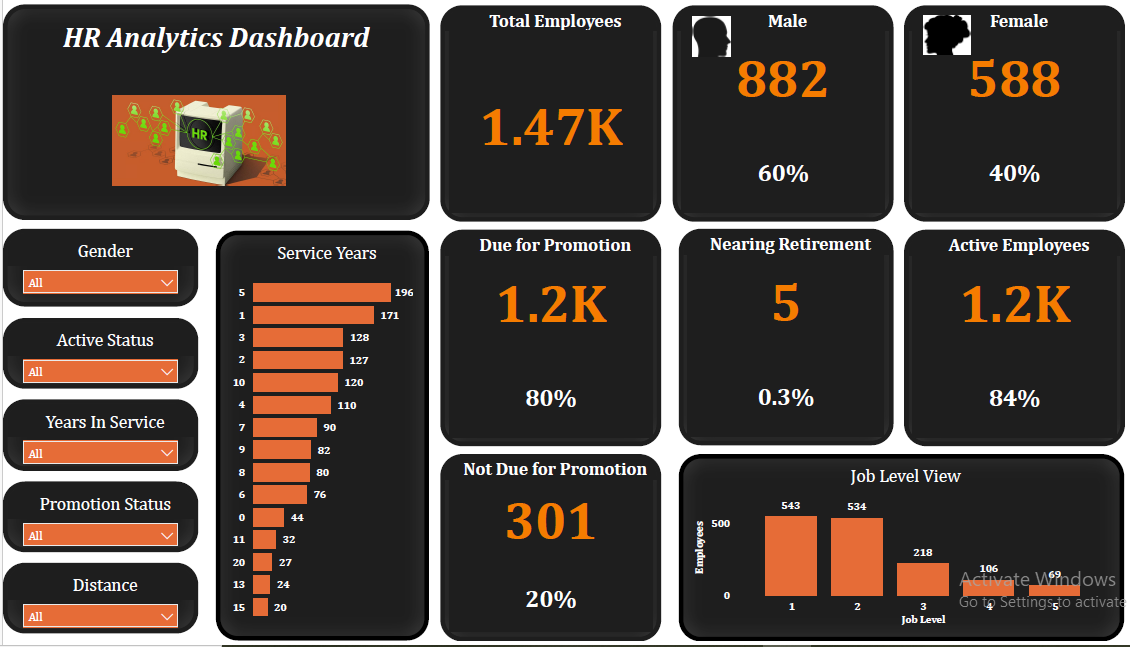

This screenshot's page, from the dashboard's own definition file:
{"tool":"powerbi","page":{"name":"HR Analytics","canvas":[1280,720],"ordinal":0},"visuals":[{"type":"textbox","box":[0,0,482.9,244.4],"z":0},{"type":"cardVisual","title":"Total Employees","fields":{"Data":["WA_Fn-UseC_-HR-Employee-Attriti.TotalEmployees"]},"box":[495.4,1.5,250,245],"z":1000},{"type":"cardVisual","title":"Active Employees","fields":{"Data":["WA_Fn-UseC_-HR-Employee-Attriti.ActiveEmployees","WA_Fn-UseC_-HR-Employee-Attriti.%ActiveEmployees"]},"box":[1020.2,255,250.1,245.1],"z":2000},{"type":"image","box":[118.5,86.3,206.3,136.1],"z":3000},{"type":"cardVisual","title":"Nearing Retirement","fields":{"Data":["WA_Fn-UseC_-HR-Employee-Attriti.NearingRetirement","WA_Fn-UseC_-HR-Employee-Attriti.%Nearing Retirement"]},"box":[765.2,253.8,242.6,245.1],"z":4000},{"type":"cardVisual","title":"Female","fields":{"Data":["WA_Fn-UseC_-HR-Employee-Attriti.Female Employees","WA_Fn-UseC_-HR-Employee-Attriti.%Female Employees"]},"box":[1019.8,1.2,250,245],"z":5000},{"type":"cardVisual","title":"Male","fields":{"Data":["WA_Fn-UseC_-HR-Employee-Attriti.Male Employees","WA_Fn-UseC_-HR-Employee-Attriti.%Male Employees"]},"box":[757.9,1.2,250,245],"z":6000},{"type":"image","box":[1030.8,7.3,75,55],"z":8000},{"type":"image","box":[765.5,8.6,75,55],"z":8500},{"type":"clusteredColumnChart","title":"Job Level View","fields":{"Category":["WA_Fn-UseC_-HR-Employee-Attriti.JobLevel"],"Y":["WA_Fn-UseC_-HR-Employee-Attriti.Total Employees"]},"box":[765.2,508.9,503.9,211.5],"z":9000},{"type":"cardVisual","title":"Not Due for Promotion","fields":{"Data":["WA_Fn-UseC_-HR-Employee-Attriti.Not Due for Promotion","WA_Fn-UseC_-HR-Employee-Attriti.%NotDueforPromotion"]},"box":[495.2,508.9,250.1,211.5],"z":10000},{"type":"cardVisual","title":"Due for Promotion","fields":{"Data":["WA_Fn-UseC_-HR-Employee-Attriti.Due for Promotion","WA_Fn-UseC_-HR-Employee-Attriti.%DueForPromotion"]},"box":[495.2,255.1,250.1,245.1],"z":11000},{"type":"slicer","title":"Gender","fields":{"Values":["WA_Fn-UseC_-HR-Employee-Attriti.Gender"]},"box":[-0.5,253.9,221.5,88.3],"z":12000},{"type":"slicer","title":"Promotion Status","fields":{"Values":["WA_Fn-UseC_-HR-Employee-Attriti.Promotion Status"]},"box":[0,540,221.5,79.6],"z":13000},{"type":"slicer","title":"Years In Service","fields":{"Values":["WA_Fn-UseC_-HR-Employee-Attriti.YearsAtCompany"]},"box":[0,446.7,221.5,80.9],"z":14000},{"type":"slicer","title":"Active Status","fields":{"Values":["WA_Fn-UseC_-HR-Employee-Attriti.ActiveStatus"]},"box":[0,354.6,221.5,79.6],"z":15000},{"type":"slicer","title":"Distance","fields":{"Values":["WA_Fn-UseC_-HR-Employee-Attriti.DistanceFromHome"]},"box":[0,632,221.5,79.6],"z":16000},{"type":"barChart","title":"Service Years","fields":{"Category":["WA_Fn-UseC_-HR-Employee-Attriti.YearsAtCompany"],"Y":["WA_Fn-UseC_-HR-Employee-Attriti.Total Employees"]},"box":[240.9,256.4,241.4,464.1],"z":17000}]}

Visuals, with their boxes in screenshot pixels (x1, y1, x2, y2), scaled from the page's 1280x720 canvas onto the 1130x647 screenshot:
textbox: 0/0/426/220
"Total Employees" cardVisual: 437/1/658/222
"Active Employees" cardVisual: 901/229/1121/449
image: 105/78/287/200
"Nearing Retirement" cardVisual: 676/228/890/448
"Female" cardVisual: 900/1/1121/221
"Male" cardVisual: 669/1/890/221
image: 910/7/976/56
image: 676/8/742/57
"Job Level View" clusteredColumnChart: 676/457/1120/646
"Not Due for Promotion" cardVisual: 437/457/658/646
"Due for Promotion" cardVisual: 437/229/658/449
"Gender" slicer: 0/228/195/308
"Promotion Status" slicer: 0/485/196/557
"Years In Service" slicer: 0/401/196/474
"Active Status" slicer: 0/319/196/390
"Distance" slicer: 0/568/196/639
"Service Years" barChart: 213/230/426/646
